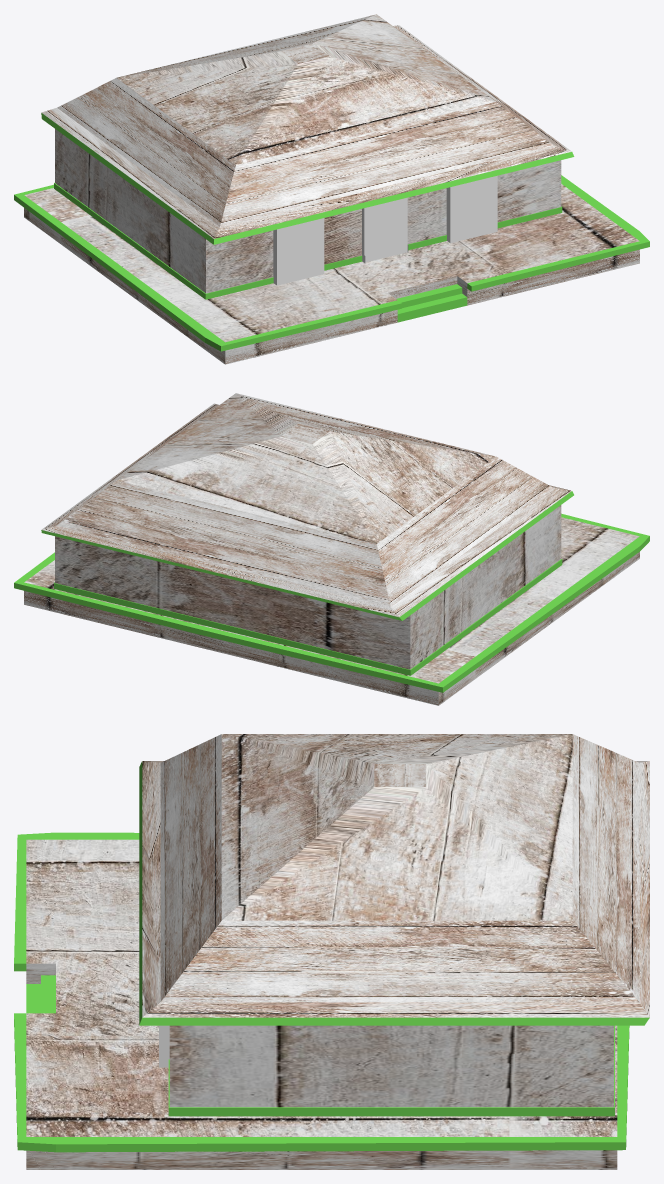
The model's file is House.fbx.
The picture shows the model from 3 angles, top to bottom: view 1: azimuth 30°, elevation 25°; view 2: azimuth 150°, elevation 25°; view 3: azimuth 270°, elevation 25°; orthographic projection. The views are drawn at different scales.
Parts seen in each view (by area): view 1: Roof, Ground, House, CTRL_Hole.002, CTRL_Hole.001, CTRL_Hole; view 2: Roof, House, Ground; view 3: Roof, Ground, House.
Part boxes in pixels (box(x1,y1,x2,y2)): Roof: box(41, 14, 574, 244); Ground: box(14, 175, 649, 364); House: box(54, 129, 562, 299); CTRL_Hole.002: box(273, 218, 324, 285); CTRL_Hole.001: box(446, 175, 497, 243); CTRL_Hole: box(362, 197, 407, 262); Roof: box(41, 393, 573, 620); House: box(54, 505, 562, 675); Ground: box(14, 513, 649, 705); Roof: box(139, 734, 649, 1025); Ground: box(14, 832, 629, 1169); House: box(168, 1025, 614, 1116).
Size of the model in its own units: 4690 by 1724 by 4043.
